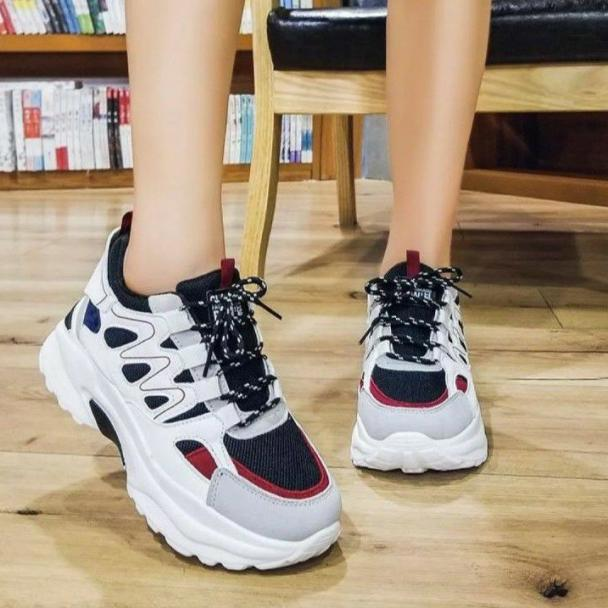Sepatu: (43, 225, 340, 575), (353, 277, 492, 479)
